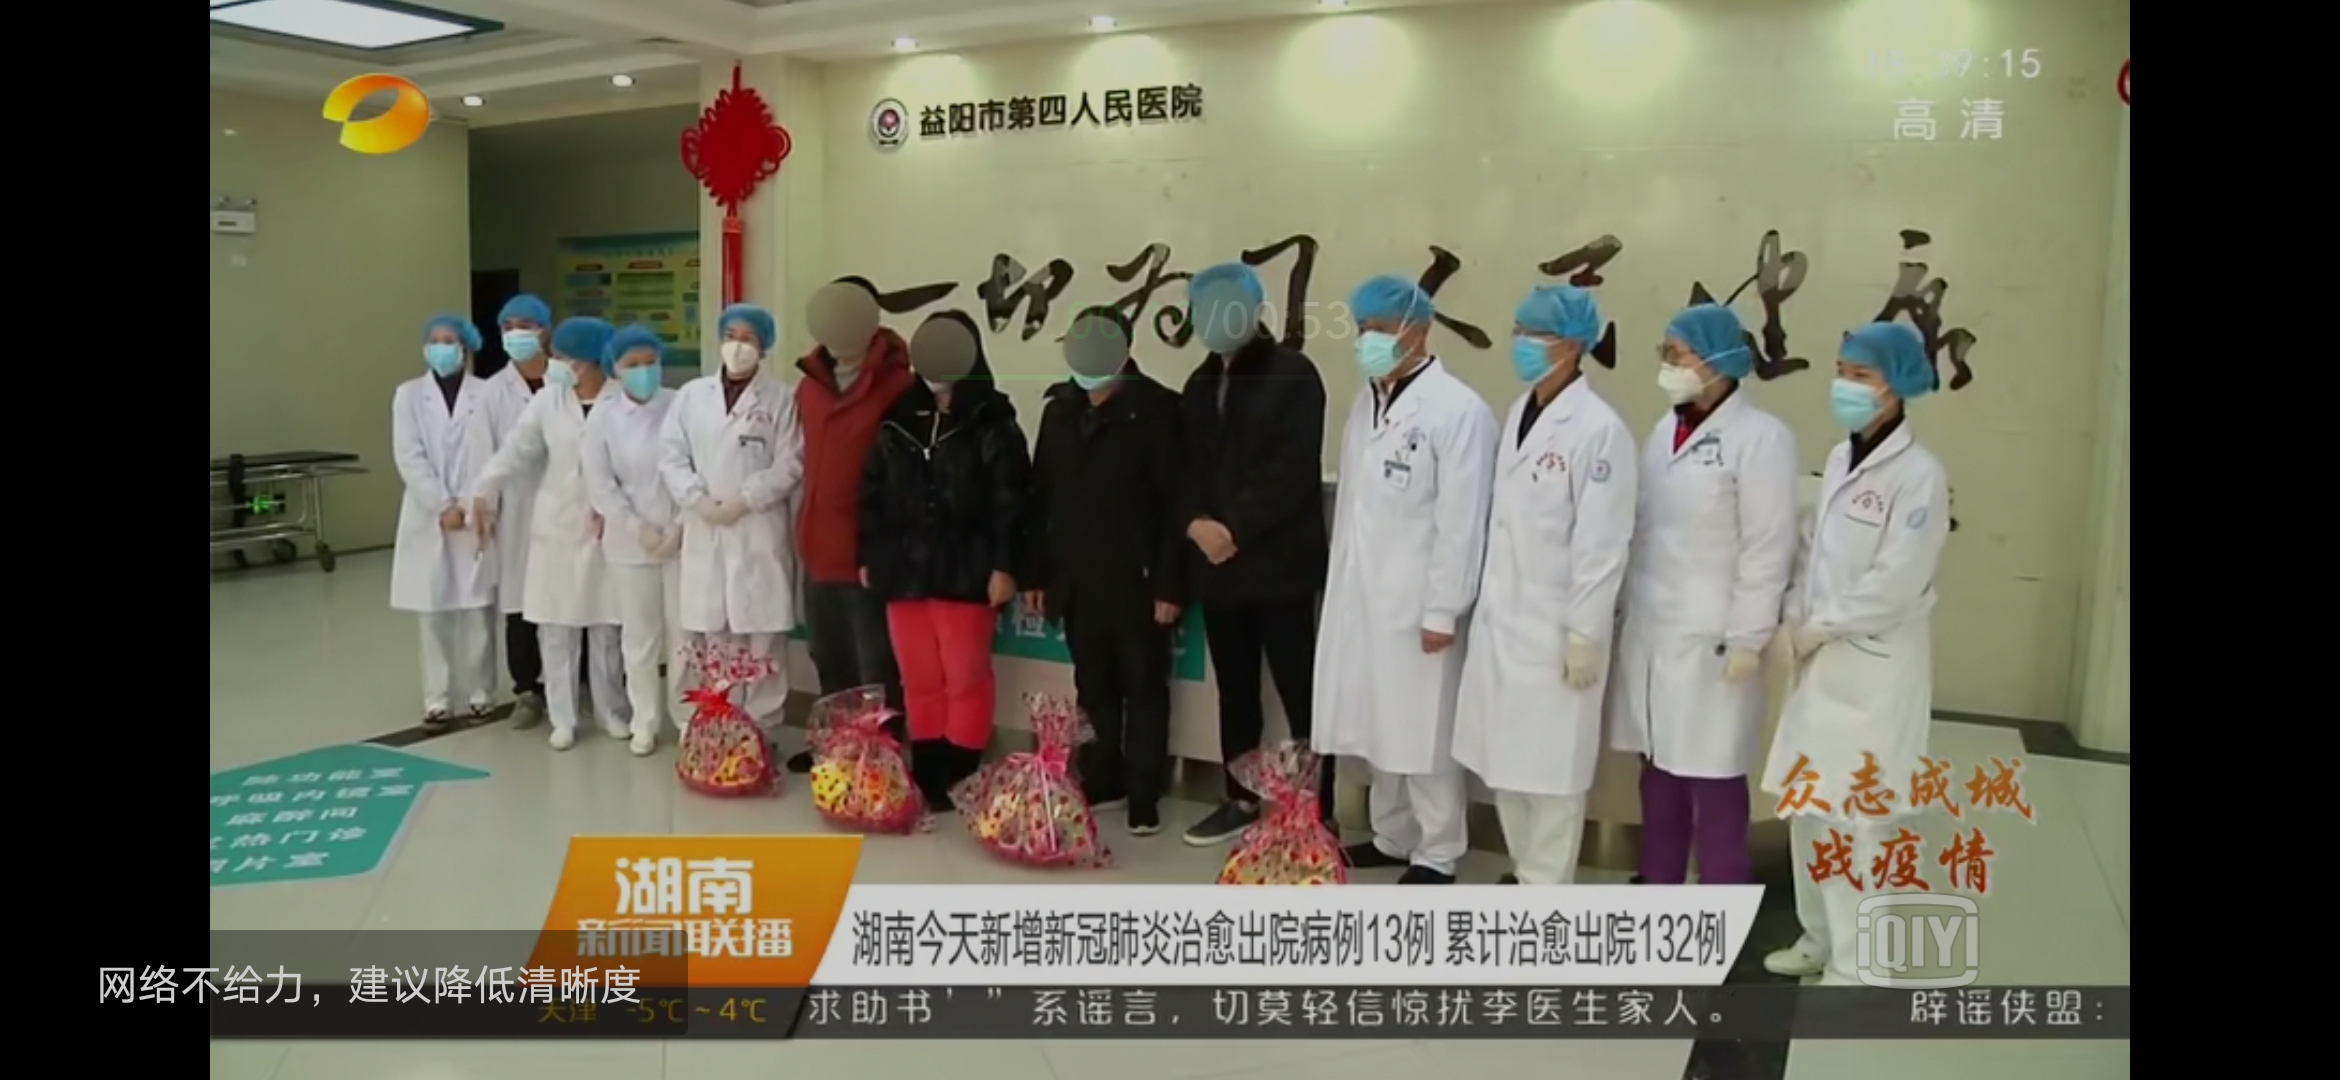correctlyWear: (1507, 310, 1585, 385), (1825, 360, 1897, 431), (1655, 333, 1722, 407), (1352, 306, 1413, 380), (716, 327, 767, 377), (615, 348, 663, 401), (497, 307, 542, 360), (419, 330, 464, 377), (546, 343, 589, 392)
